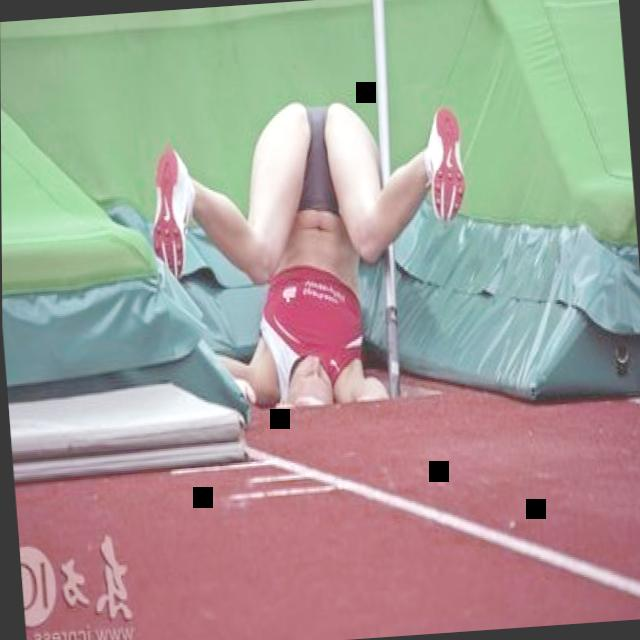Fall-Detected: (129, 72, 492, 438)
